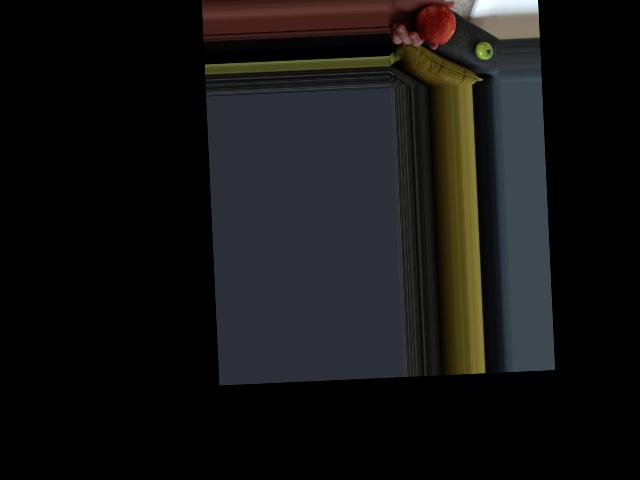apple: (469, 40, 495, 65)
